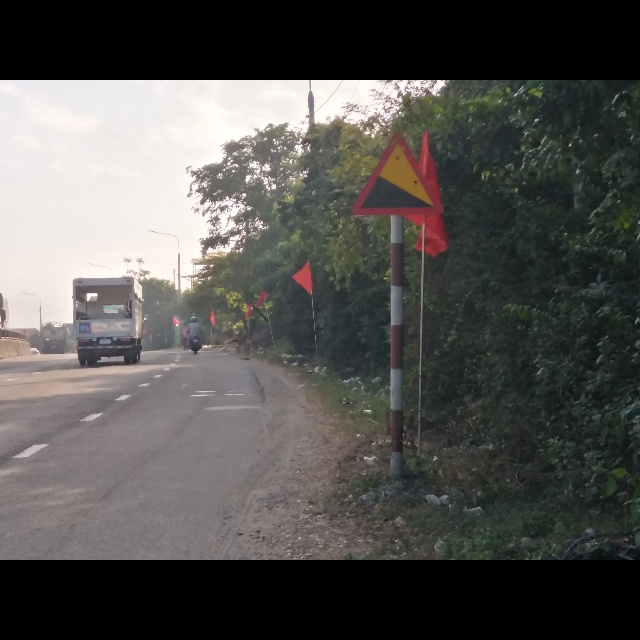Dốc lên nguy hiểm: (352, 130, 444, 216)
